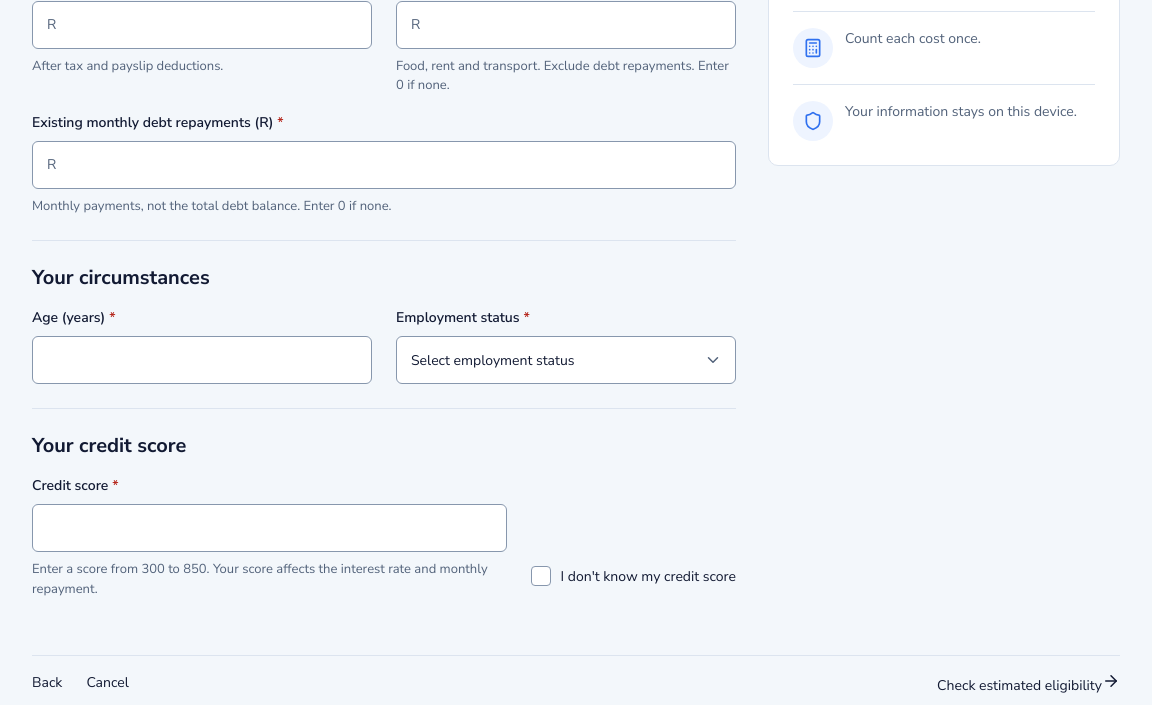
Scenario: YourBudgetScreen › locks income at 0.00 when No income is selected
(page scrolled)
Step 1. Select "Retired" in the dropdown labelled "Employment status *" → (566, 360), box [396, 336, 736, 384]
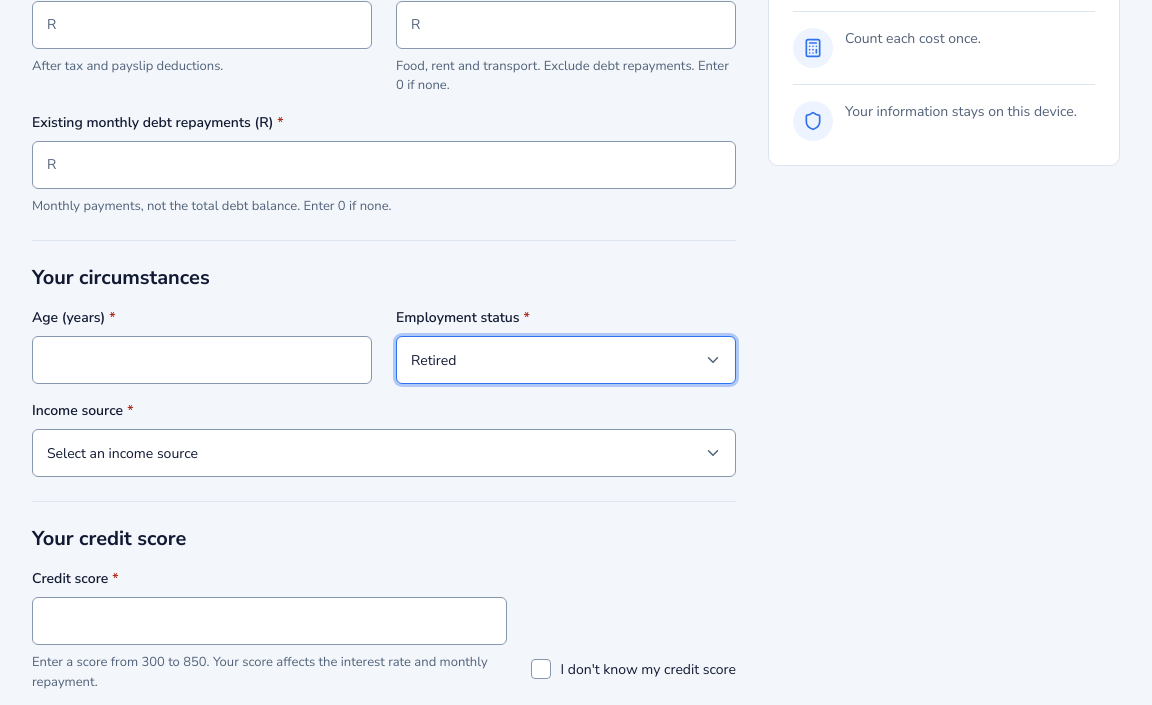
Step 2. Select "No income" in the dropdown labelled "Income source *" → (384, 453), box [32, 429, 736, 477]
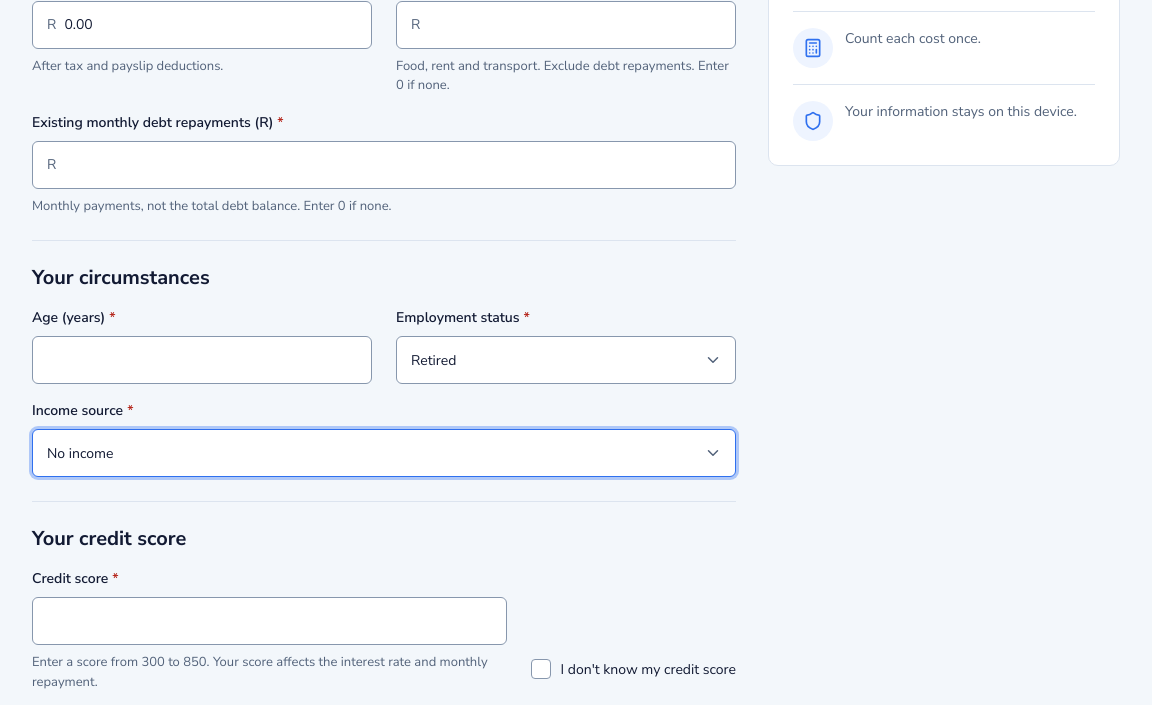
Now the field labelled "Monthly take-home income (R) *" holds "0.00", box [64, 2, 357, 48]
